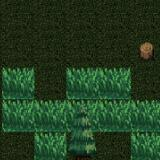Obstacle: (130, 35, 160, 68), (67, 132, 98, 160)
Slow: (35, 100, 160, 132), (66, 67, 131, 100), (2, 68, 34, 132), (34, 132, 67, 160), (130, 132, 160, 160)
